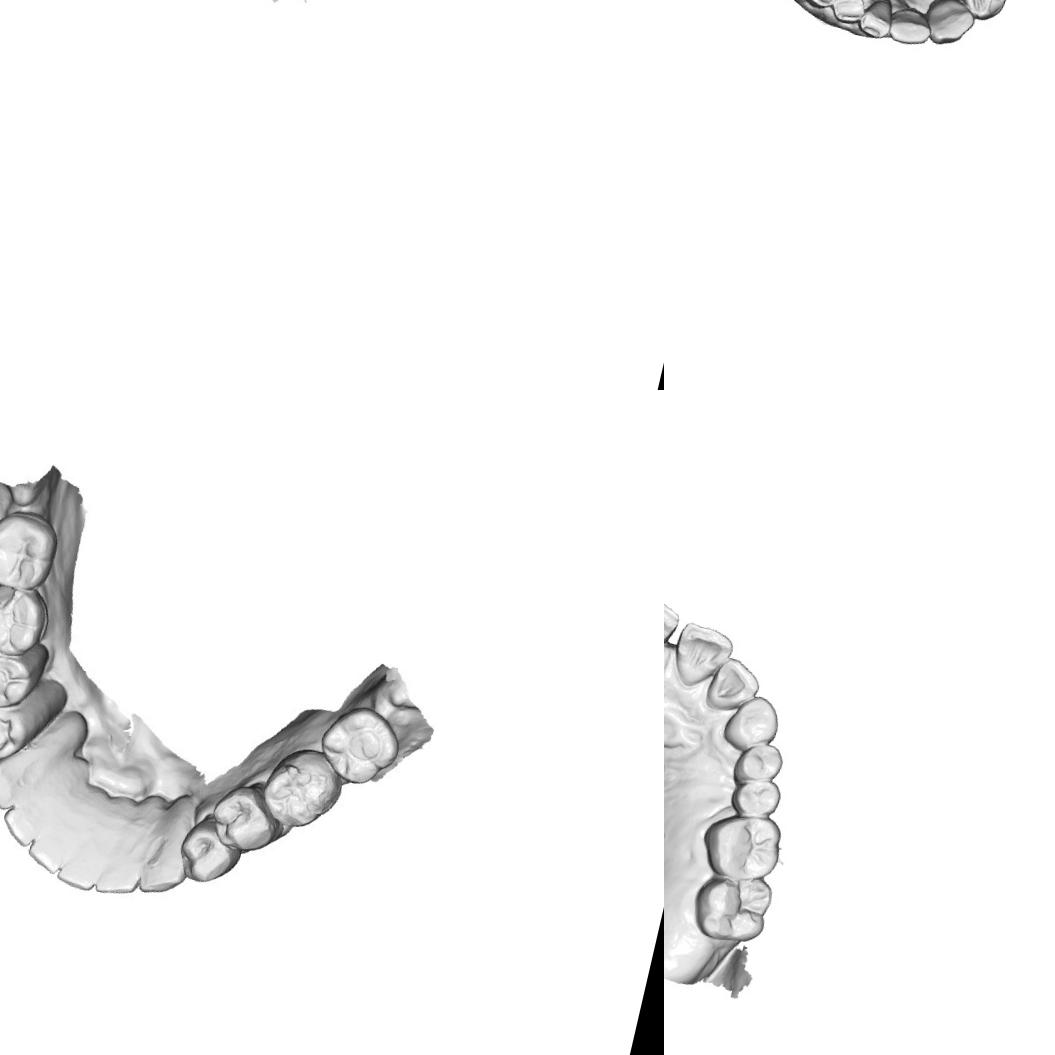canine: (139, 793, 203, 899), (720, 688, 785, 757), (0, 745, 43, 818), (885, 2, 936, 50)
incisor: (666, 619, 737, 696), (702, 652, 766, 718), (29, 813, 84, 874), (2, 791, 55, 848), (55, 844, 103, 892), (98, 848, 144, 898), (855, 0, 897, 42), (664, 589, 684, 665), (827, 0, 871, 28), (797, 0, 844, 13)
molar: (684, 864, 778, 952), (693, 803, 788, 889), (315, 704, 399, 786), (265, 747, 341, 831), (0, 509, 55, 591), (0, 581, 49, 656)
premolar: (214, 790, 282, 856), (178, 816, 242, 886), (918, 0, 980, 52), (730, 736, 788, 790), (726, 771, 785, 824), (0, 643, 37, 711), (0, 700, 35, 760), (951, 0, 1013, 25)
